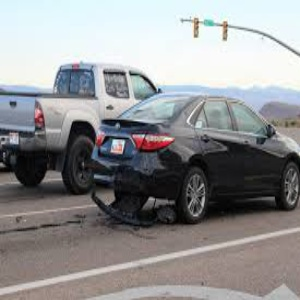bumper: (92, 161, 176, 199)
